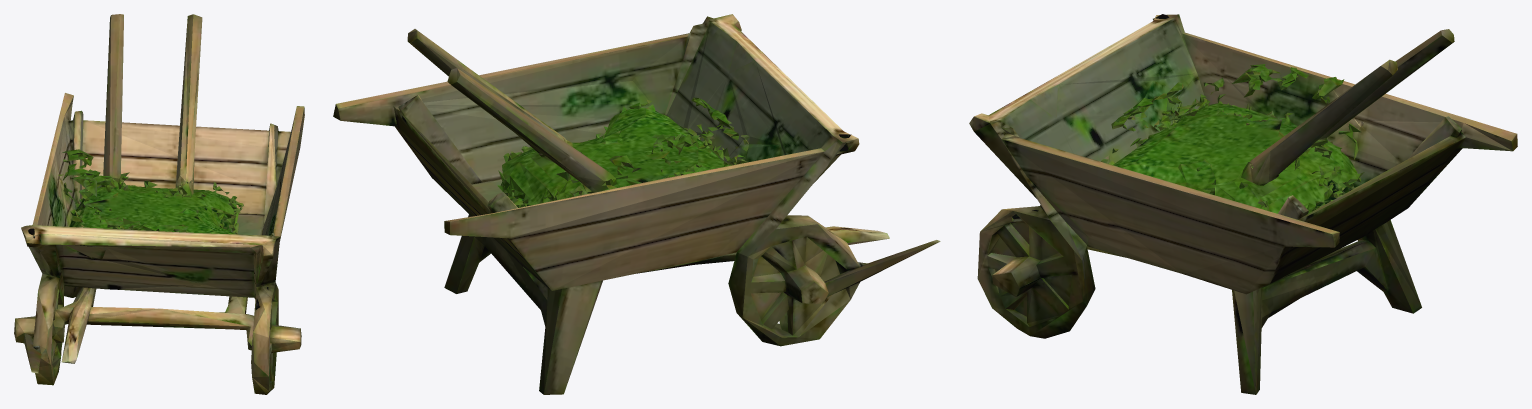
The model's file is prop_wheelbarrow_01.glb.
3 views of the same model, side by side, from view 1: azimuth 30°, elevation 25°; view 2: azimuth 150°, elevation 25°; view 3: azimuth 270°, elevation 25° (orthographic). The views are drawn at different scales.
Visible parts, largest first — view 1: geometry_0; view 2: geometry_0; view 3: geometry_0.
Part boxes in pixels (x1=…): geometry_0: x1=14, y1=14, x2=304, y2=394; geometry_0: x1=333, y1=14, x2=940, y2=394; geometry_0: x1=969, y1=14, x2=1517, y2=394.
Bounding box in the file's own units: 0.9958 × 0.6406 × 0.9974.
Materials: 1 (1 with a texture image).
